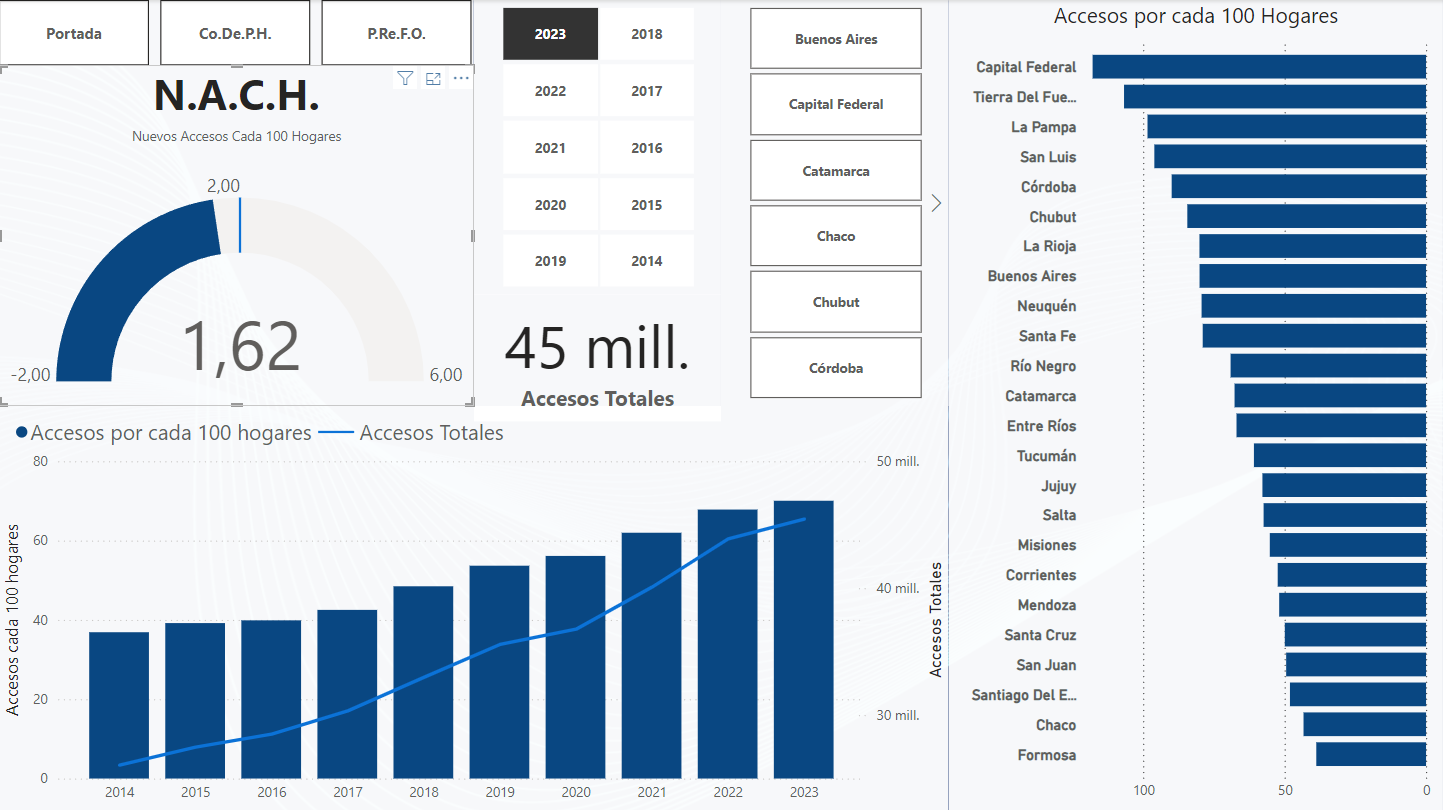

This screenshot's page, from the dashboard's own definition file:
{"tool":"powerbi","page":{"name":"N.A.C.H.","canvas":[1280,720],"ordinal":1},"visuals":[{"type":"gauge","title":"N.A.C.H.","fields":{"Y":["EDA.NACH (2023 if Unselected)"]},"box":[0,58,421,302],"z":1},{"type":"lineClusteredColumnComboChart","title":"Total de Accesos y Penetración en Hogares","fields":{"Y2":["Sum(EDA.Accesos Totales)"],"Y":["Avg(EDA.Accesos por cada 100 hogares)"],"Category":["EDA.Año"]},"box":[0,360,842,360],"z":3},{"type":"barChart","title":"Accesos por cada 100 Hogares","fields":{"Category":["EDA.Provincia"],"Y":["EDA.2023 if Unselected"]},"box":[842,0,438,719],"z":4},{"type":"pageNavigator","box":[0,0,421,58],"z":5},{"type":"slicer","fields":{"Values":["EDA.Provincia"]},"box":[640,0,202,360],"z":6},{"type":"slicer","fields":{"Values":["EDA.Año"]},"box":[421,0,219,261],"z":7},{"type":"card","fields":{"Values":["EDA.Accesos Totales (2023 if Unselected)"]},"box":[421,261,219,113],"z":8}]}

Visuals, with their boxes in screenshot pixels (x1, y1, x2, y2), scaled from the page's 1280x720 canvas onto the 1443x810 screenshot:
"N.A.C.H." gauge: 0:65:475:405
"Total de Accesos y Penetración en Hogares" lineClusteredColumnComboChart: 0:405:949:809
"Accesos por cada 100 Hogares" barChart: 949:0:1442:809
pageNavigator: 0:0:475:65
slicer - EDA.Provincia: 722:0:949:405
slicer - EDA.Año: 475:0:722:294
card - EDA.Accesos Totales (2023 if Unselected): 475:294:722:421
